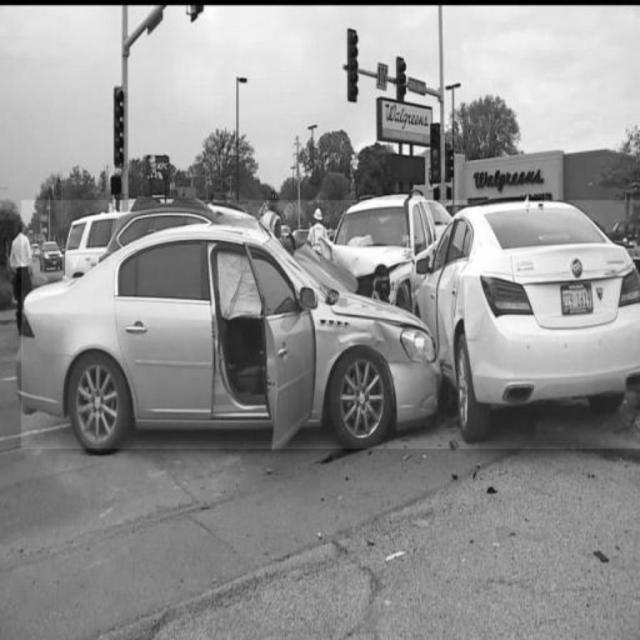accident: (21, 201, 639, 449)
